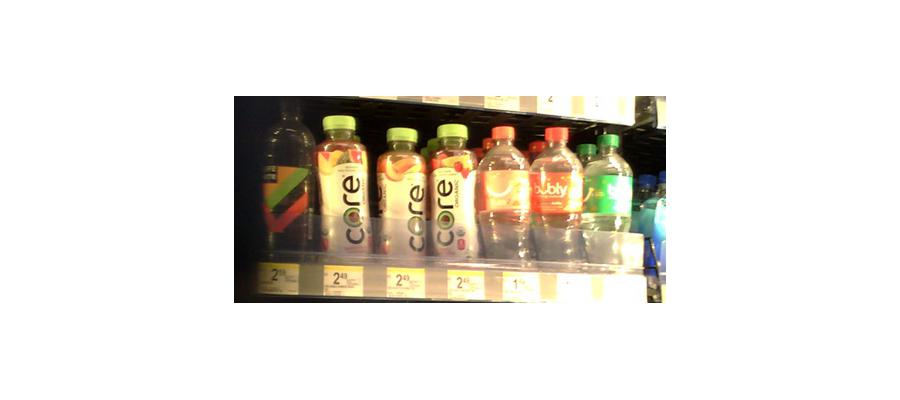bottle: (260, 97, 316, 259), (316, 111, 374, 262), (476, 123, 531, 267), (529, 123, 583, 269), (427, 123, 480, 265), (374, 125, 427, 263), (582, 126, 632, 270)
